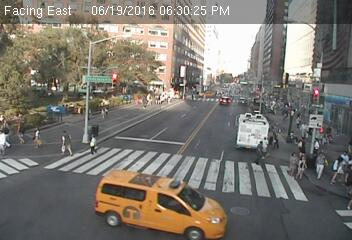neg: (110, 51, 132, 79), (160, 51, 179, 77), (52, 58, 70, 82), (191, 48, 208, 71), (17, 75, 34, 98), (251, 68, 267, 89), (221, 41, 235, 61), (314, 85, 324, 100)
pos: (309, 150, 332, 181), (328, 153, 351, 184), (52, 126, 75, 156), (295, 154, 315, 181), (83, 130, 102, 156), (26, 125, 45, 150), (251, 139, 269, 164), (308, 134, 326, 158), (268, 128, 283, 148)
